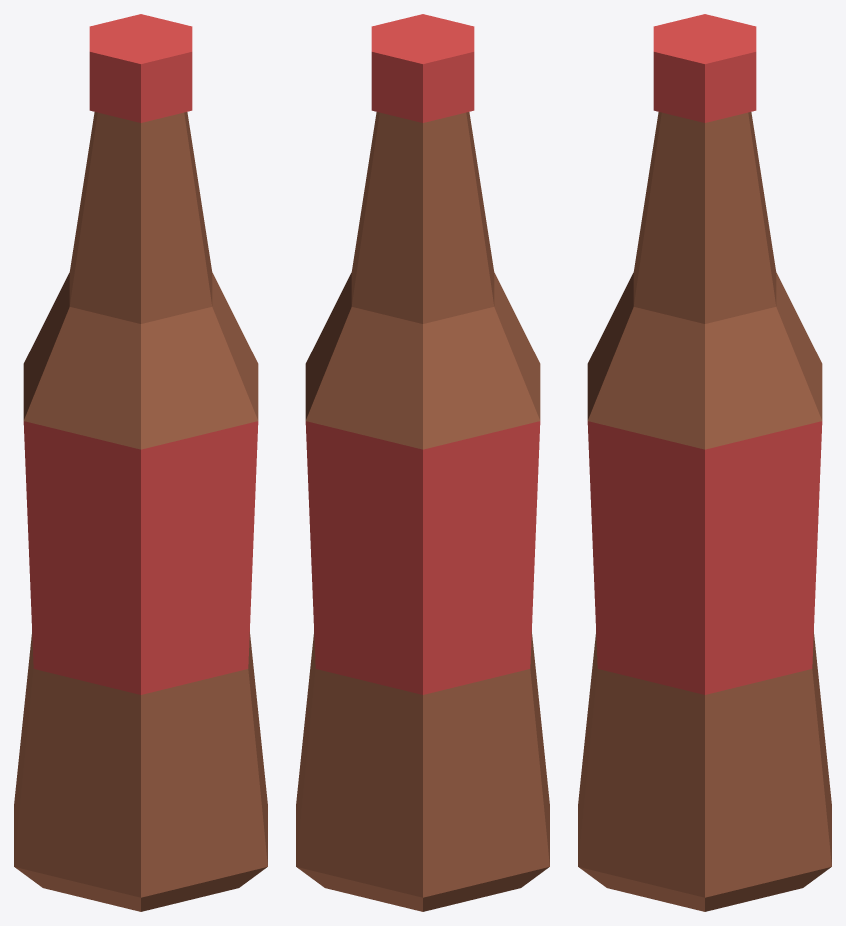
Rendered from sodaBottle.fbx.
The picture shows the model from 3 angles, left to right: view 1: azimuth 30°, elevation 25°; view 2: azimuth 150°, elevation 25°; view 3: azimuth 270°, elevation 25°; orthographic projection.
Visible parts, largest first — view 1: sodaBottle; view 2: sodaBottle; view 3: sodaBottle.
Part boxes in pixels (x1=…): sodaBottle: x1=14, y1=14, x2=267, y2=911; sodaBottle: x1=296, y1=14, x2=549, y2=911; sodaBottle: x1=578, y1=14, x2=831, y2=911.
Bounding box in the file's own units: 1.8 × 5.6 × 1.56.
